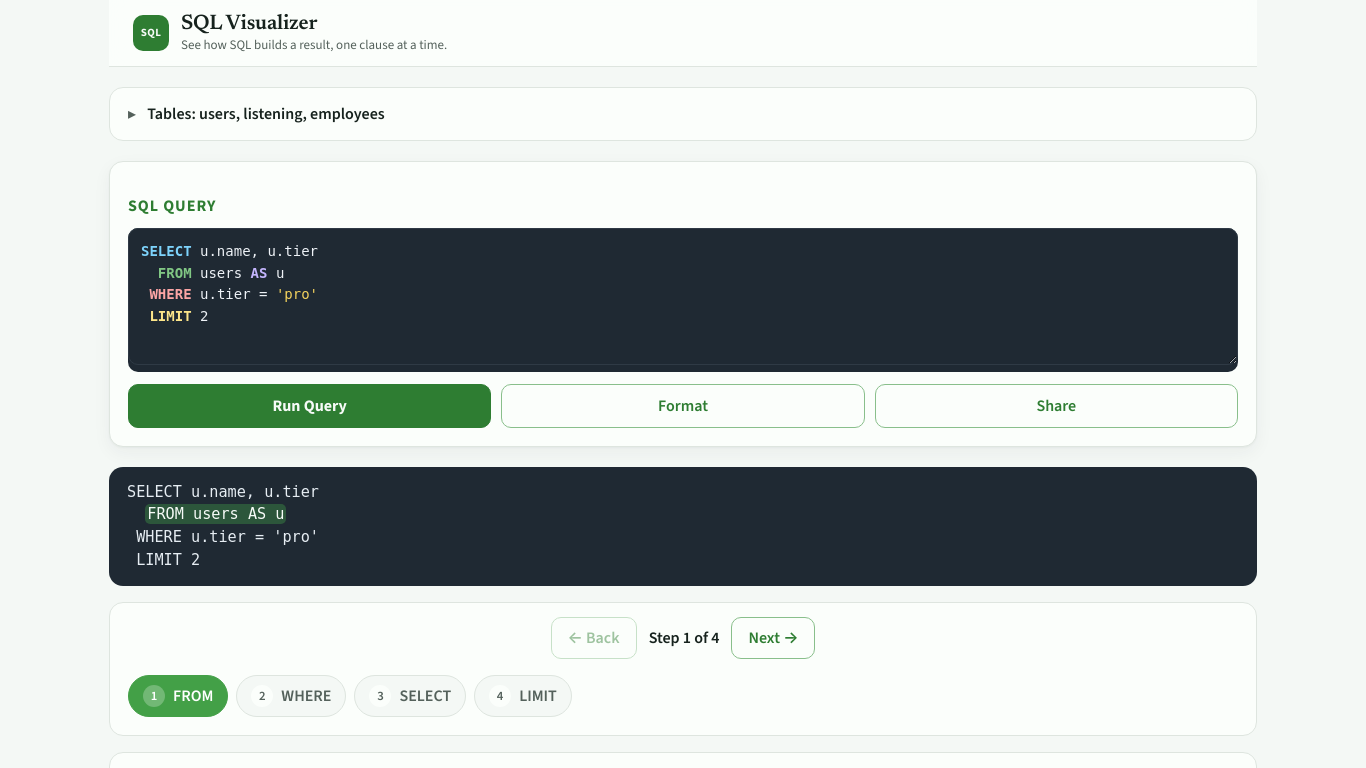
Test: App › moves through the timeline with buttons, pills and arrow keys
Click the button "Next →" at (773, 638), box x1=731 y1=617 x2=815 y2=659
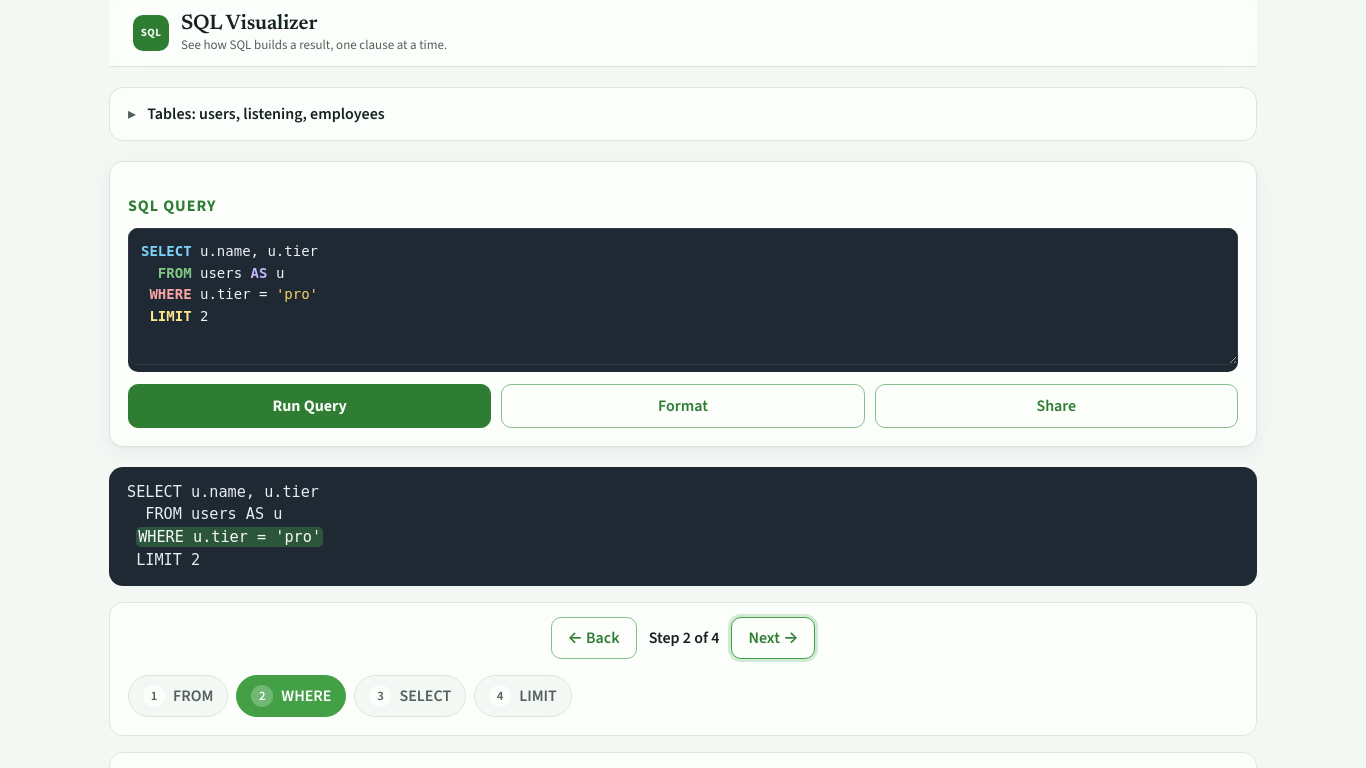
expect the text "Step 2 of 4" is shown: met, box x1=649 y1=626 x2=719 y2=650
expect the text with class "active-query-clause" reads "WHERE u.tier = 'pro'": met, box x1=138 y1=528 x2=321 y2=546
Press Arrowright
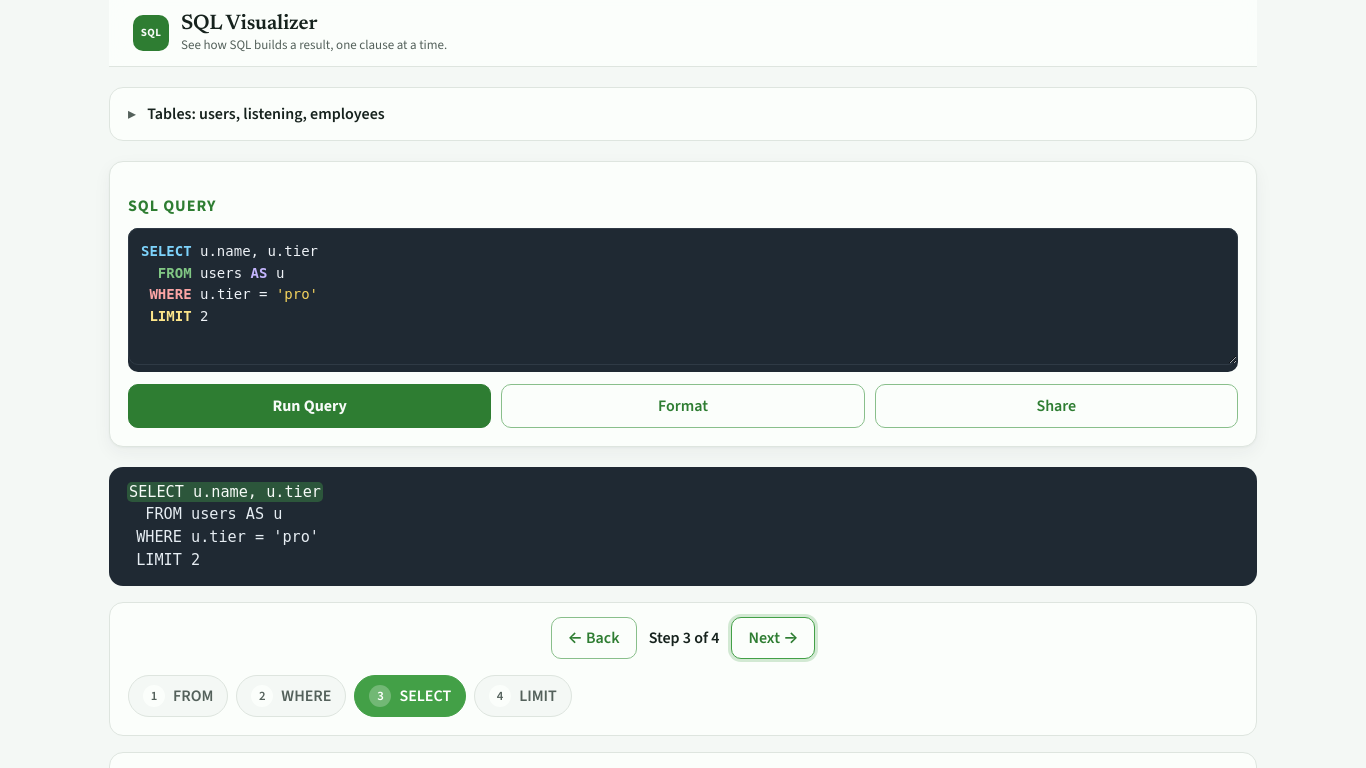
expect the text "Step 3 of 4" is shown: met, box x1=649 y1=626 x2=719 y2=650
Press Arrowleft
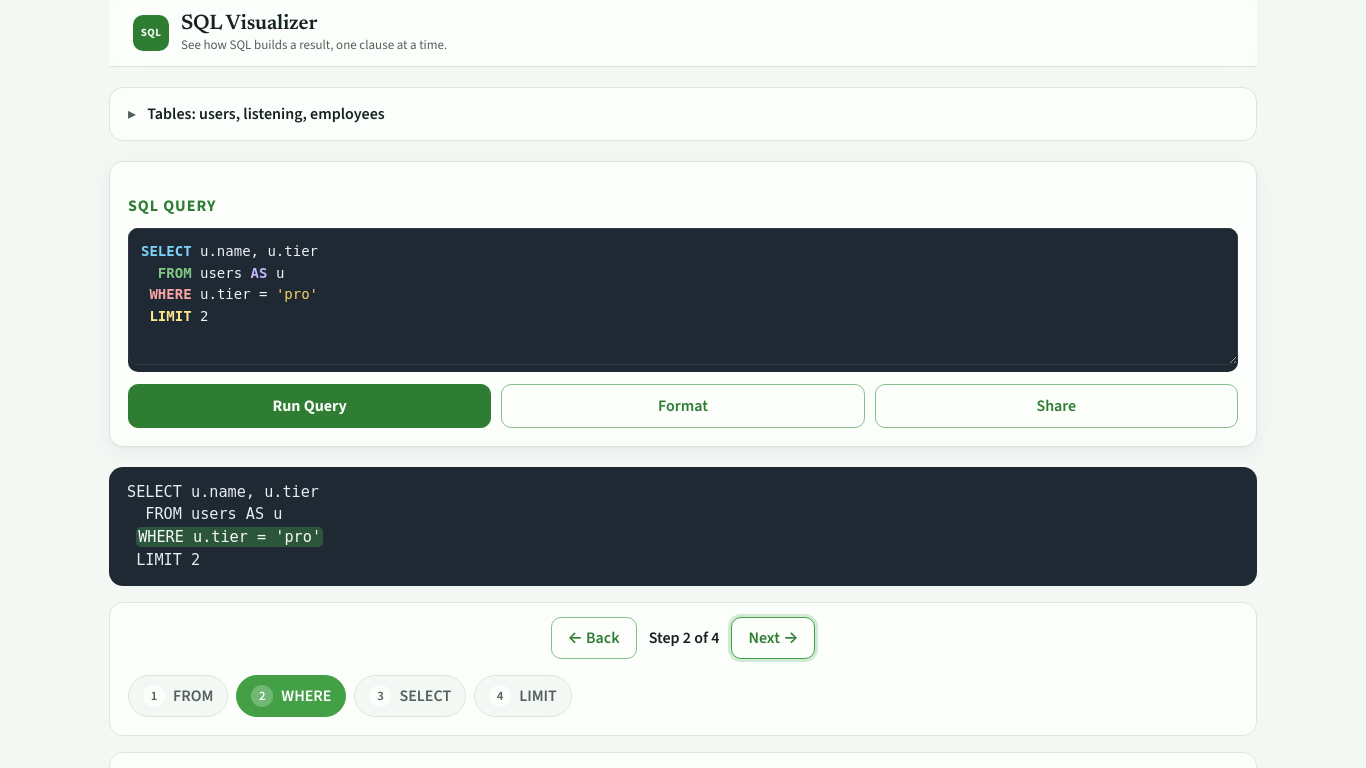
expect the text "Step 2 of 4" is shown: met, box x1=649 y1=626 x2=719 y2=650
Click the button "4 LIMIT" at (523, 696), box x1=474 y1=675 x2=572 y2=717
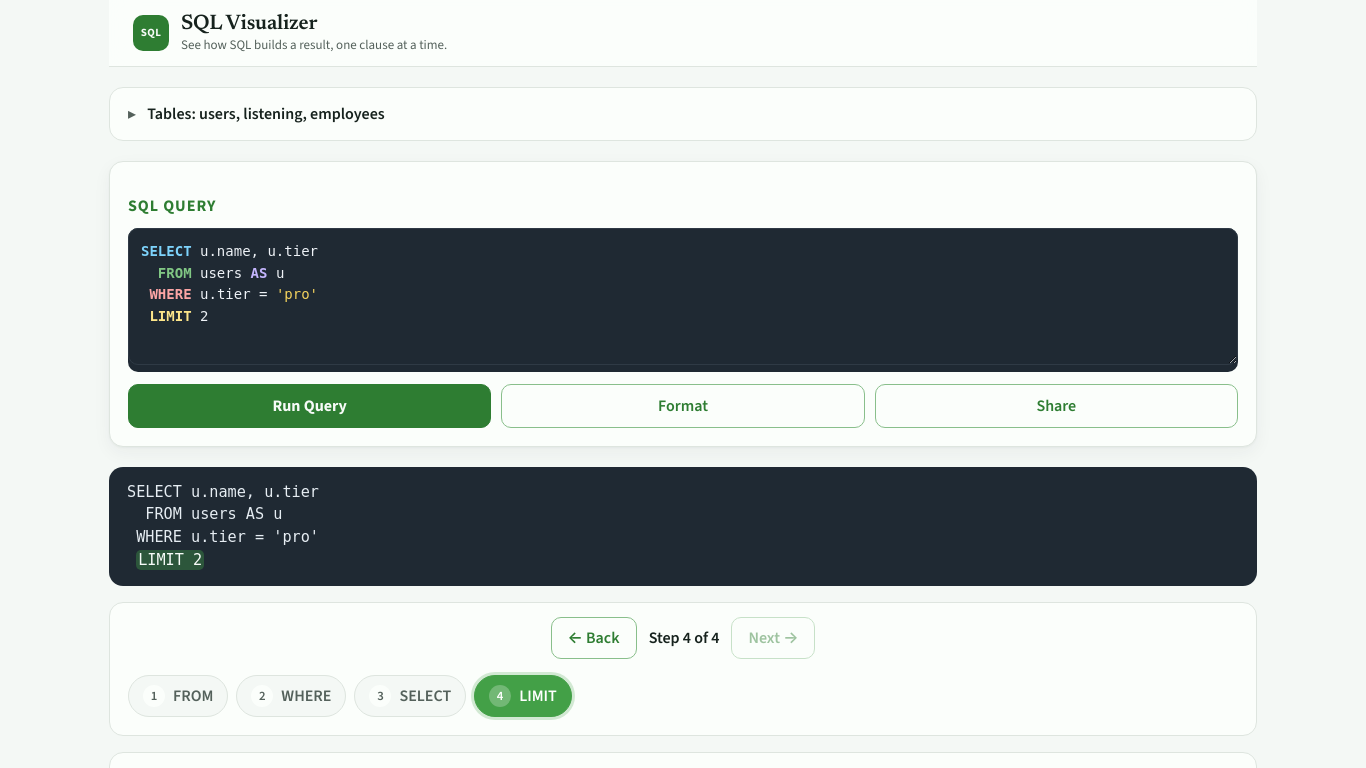
expect the text "Step 4 of 4" is shown: met, box x1=649 y1=626 x2=719 y2=650
expect the button "Next →" is disabled: met, box x1=731 y1=617 x2=815 y2=659
